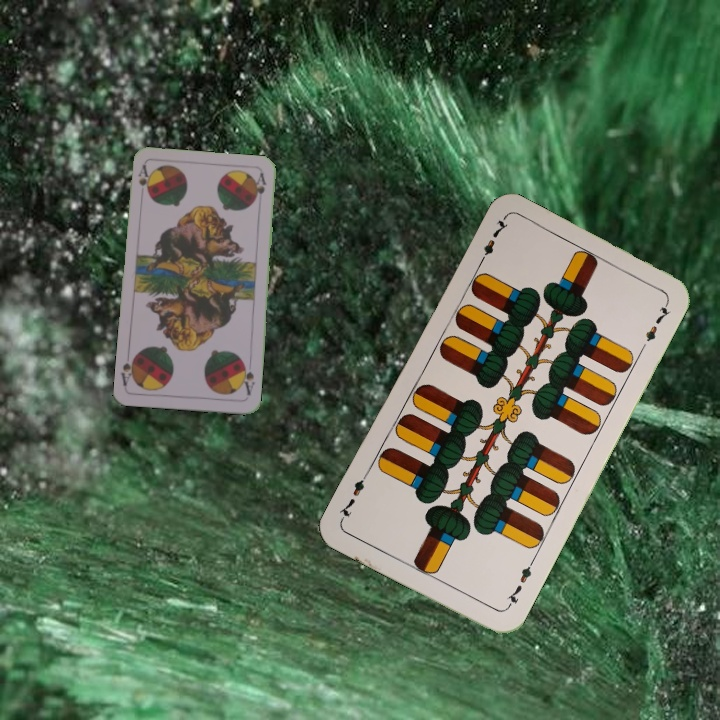E7: (474, 214, 511, 269), (502, 556, 537, 611)
SA: (134, 161, 153, 202), (238, 358, 257, 398)
